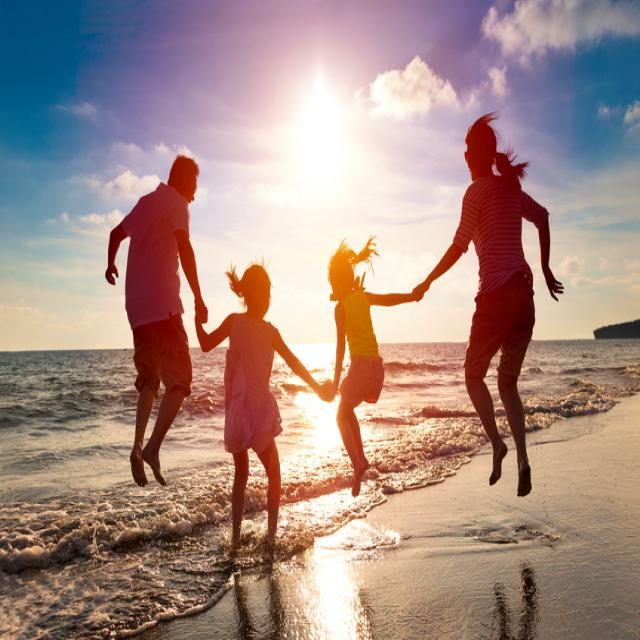adult: (413, 114, 564, 497), (105, 155, 208, 489)
child: (194, 261, 333, 551), (327, 239, 415, 496)
